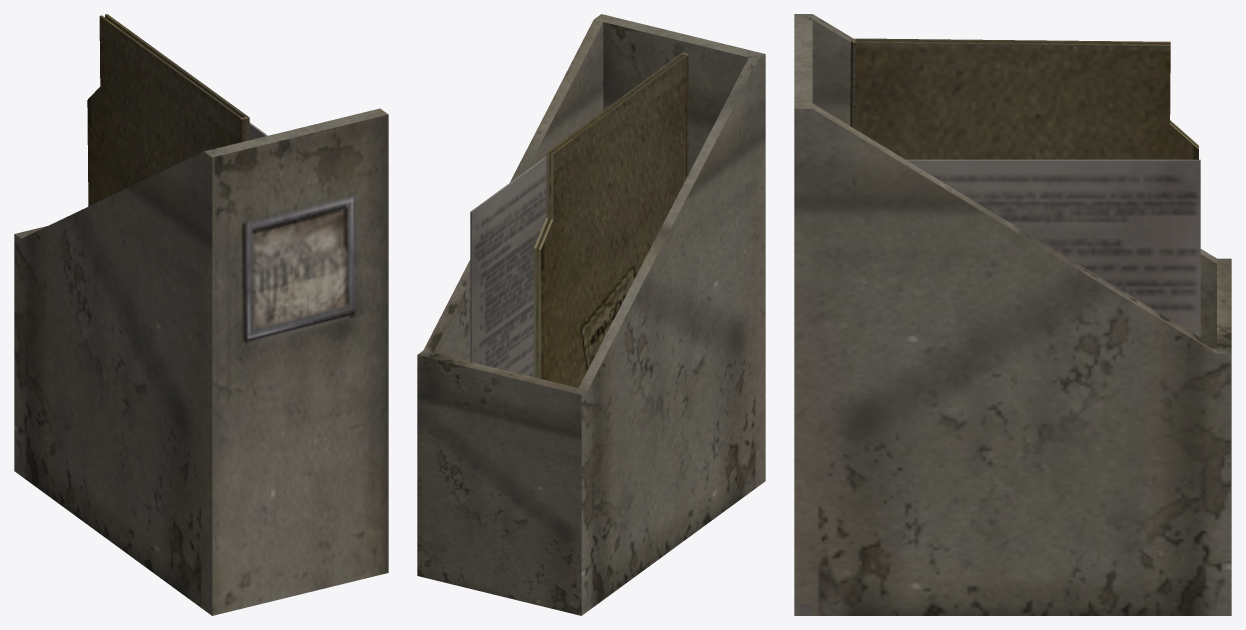
Rendered from office_folderholder.dae.
3 renders of one model, left to right at view 1: azimuth 30°, elevation 25°; view 2: azimuth 150°, elevation 25°; view 3: azimuth 270°, elevation 25°, orthographic. The views are drawn at different scales.
Parts seen in each view (by area): view 1: holder, folder; view 2: holder, folder, pCube2; view 3: holder, folder, pCube2.
Part boxes in pixels (<box>): holder: <box>14,108,388,615</box>; folder: <box>87,14,249,206</box>; holder: <box>417,14,765,615</box>; folder: <box>533,52,688,387</box>; pCube2: <box>470,156,546,377</box>; holder: <box>794,14,1231,615</box>; folder: <box>850,38,1198,159</box>; pCube2: <box>906,159,1200,337</box>.
Size of what is drawn, in the model's own units: 0.1287 by 0.3233 by 0.2499.
